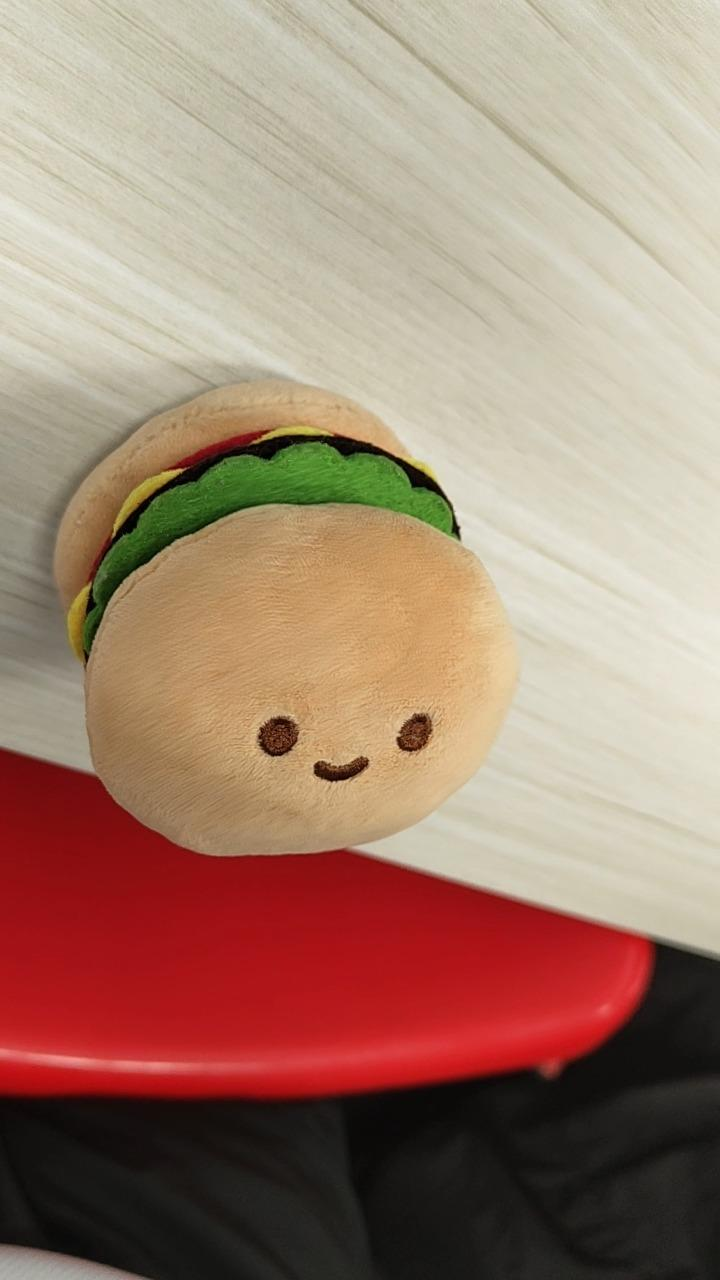hamburger: (51, 377, 519, 859)
